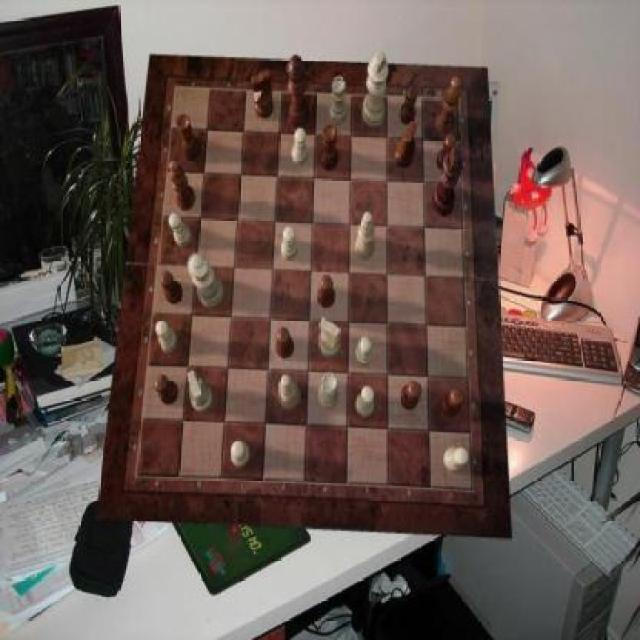bishop: (435, 77, 460, 135), (171, 160, 197, 211)
black-bishop: (432, 146, 463, 217)
black-king: (251, 70, 274, 119), (394, 120, 417, 168)
black-knight: (160, 270, 183, 304), (437, 134, 457, 171), (156, 376, 180, 406), (400, 86, 418, 125), (442, 388, 464, 418), (400, 383, 422, 411), (317, 276, 335, 310), (276, 328, 294, 360)
black-pawn: (288, 56, 312, 130)
black-queen: (177, 115, 201, 161), (320, 125, 339, 170)
black-rook: (356, 212, 376, 260), (278, 375, 301, 410)
white-bishop: (362, 51, 388, 128)
white-king: (188, 371, 214, 412), (318, 318, 341, 358)
white-knight: (170, 212, 192, 247), (156, 318, 177, 352), (445, 448, 469, 473), (355, 386, 373, 419), (292, 128, 308, 165), (282, 226, 298, 261), (355, 337, 373, 368), (231, 440, 250, 466)
white-pawn: (188, 252, 224, 308)
white-queen: (329, 77, 347, 125), (318, 372, 338, 410)
